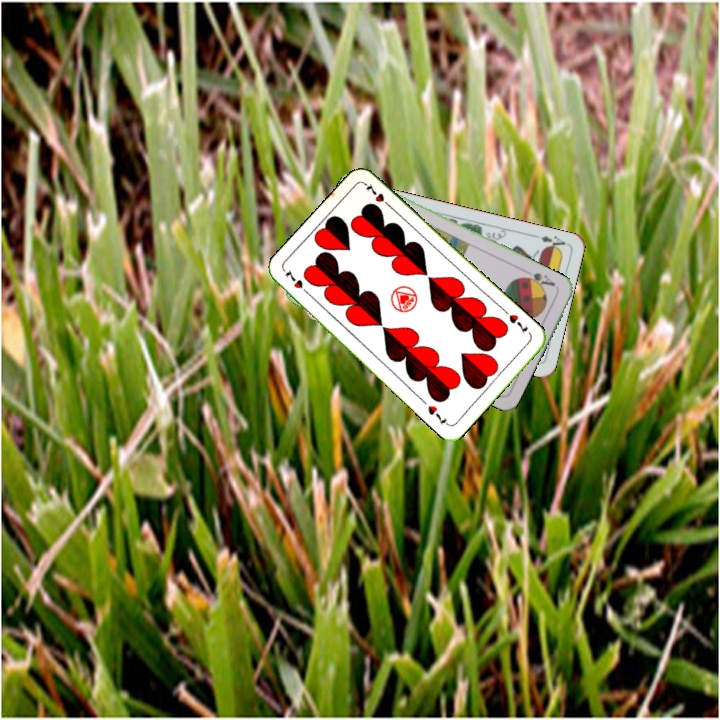EA: (529, 230, 568, 254)
H7: (281, 265, 313, 298), (505, 310, 531, 335)
SA: (519, 269, 558, 291)
